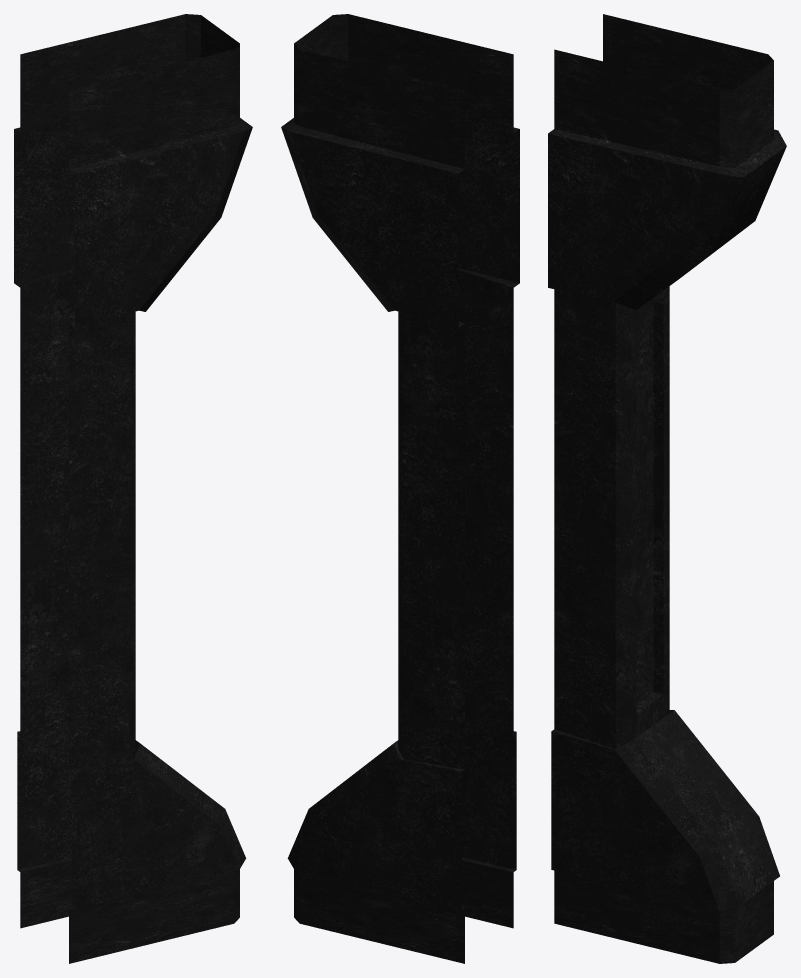
File: pillar.fbx
3 views of the same model, side by side, from view 1: azimuth 30°, elevation 25°; view 2: azimuth 150°, elevation 25°; view 3: azimuth 330°, elevation 25° (orthographic).
Parts seen in each view (by area): view 1: pasted__pCube75; view 2: pasted__pCube75; view 3: pasted__pCube75.
Boxes of the visible parts, <box> form: pasted__pCube75: <box>14,14,252,963</box>; pasted__pCube75: <box>281,14,519,963</box>; pasted__pCube75: <box>548,14,786,963</box>.
Size of the model in its own units: 209 by 935 by 119.
1 material, 1 textured.
